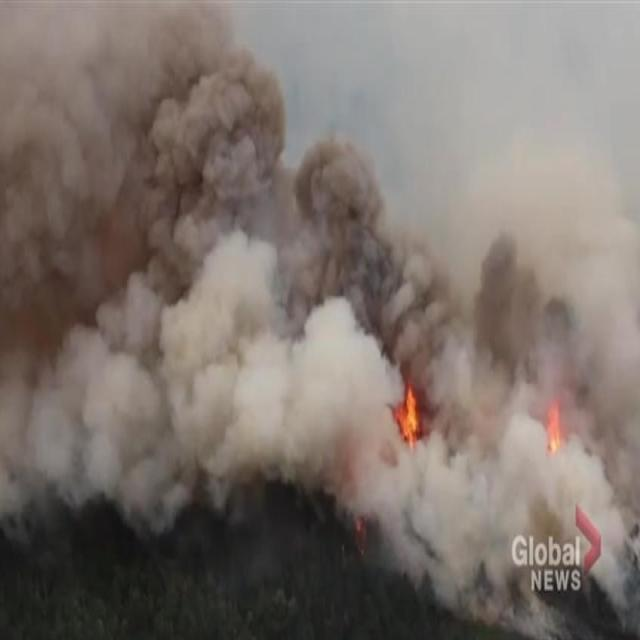Fire: (392, 371, 422, 450), (544, 399, 560, 456)
Smoke: (1, 1, 390, 582), (392, 2, 638, 370), (391, 453, 640, 639), (423, 370, 542, 454), (561, 368, 640, 454), (542, 368, 560, 402)
